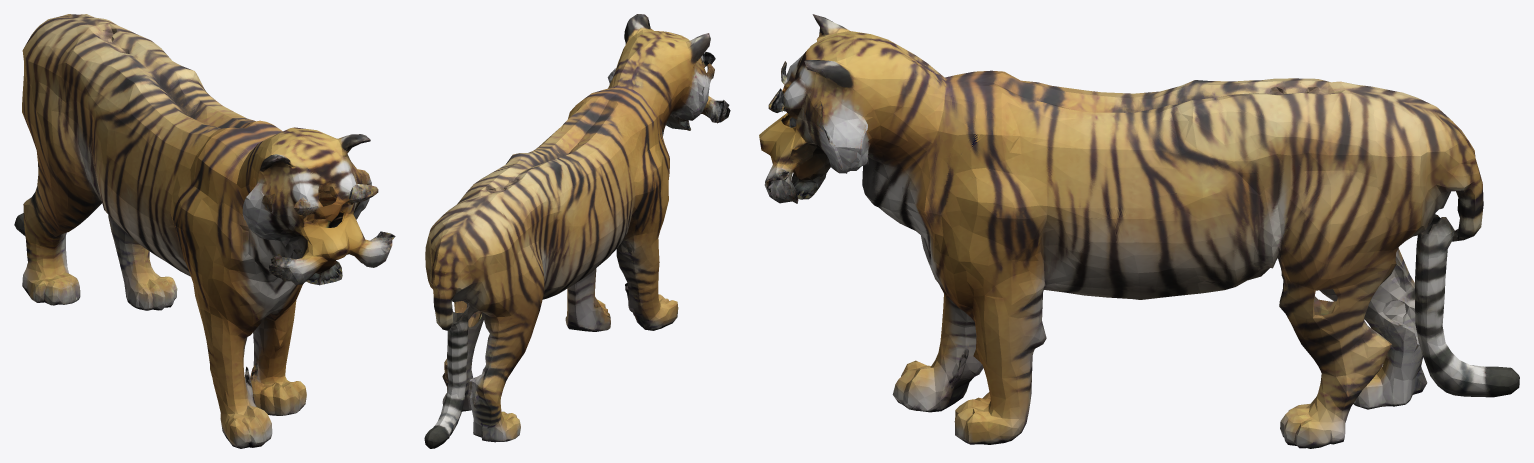
The model's file is 0f2d39f0-89ee-4b73-98ba-427c8adc390b.glb.
3 views of the same model, side by side, from view 1: azimuth 30°, elevation 25°; view 2: azimuth 150°, elevation 25°; view 3: azimuth 270°, elevation 25° (orthographic). The views are drawn at different scales.
Parts seen in each view (by area): view 1: world; view 2: world; view 3: world.
Boxes of the visible parts, box(x1,y1,x2,y2) form: world: box(14, 14, 395, 448); world: box(424, 14, 730, 448); world: box(759, 14, 1519, 448).
Size of the model in its own units: 0.2233 by 0.5527 by 0.9996.
Materials: 1 (1 with a texture image).
